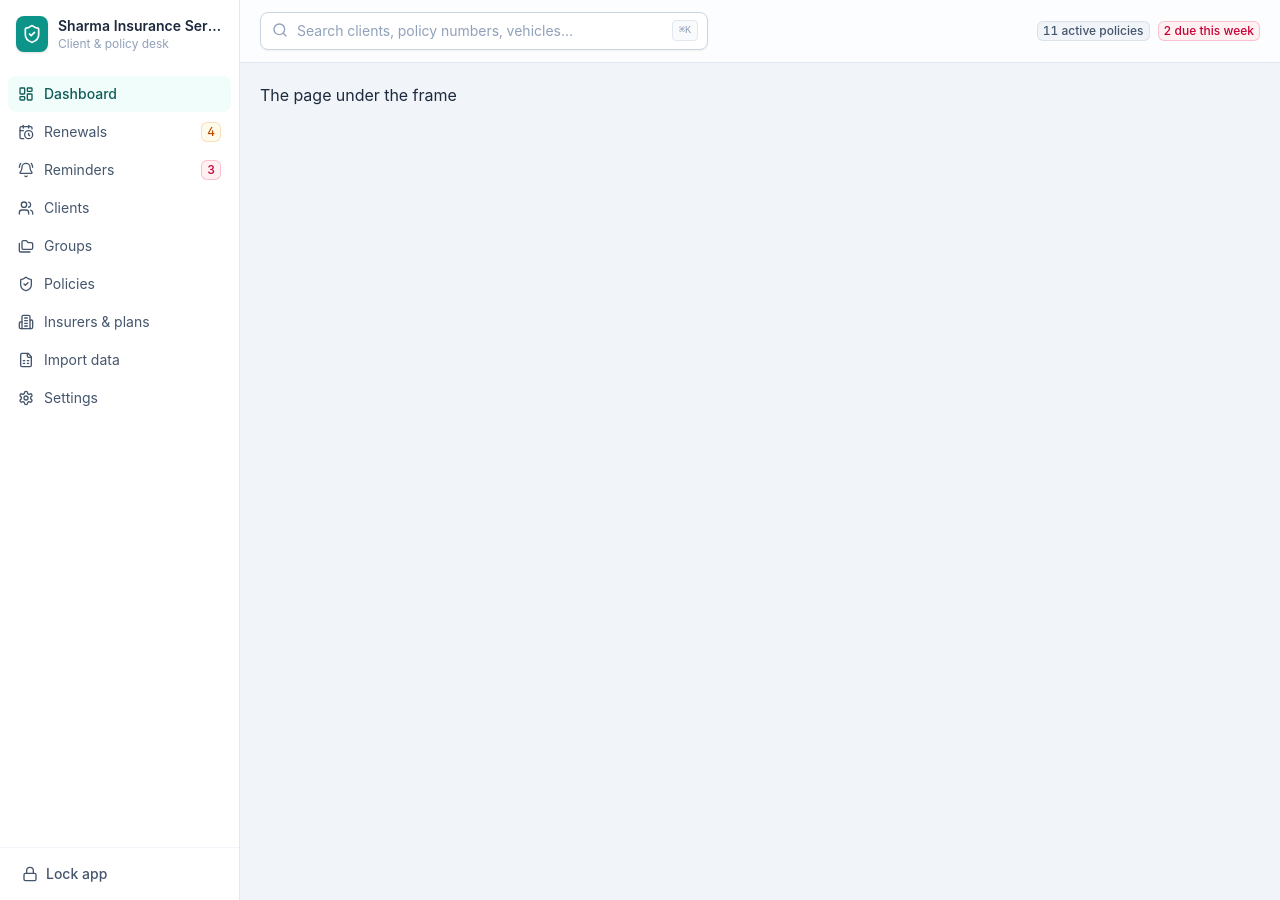
Scenario: locking the app › says so when the book will not close
Click the button "Lock app": (120, 874) [8,856,231,892]
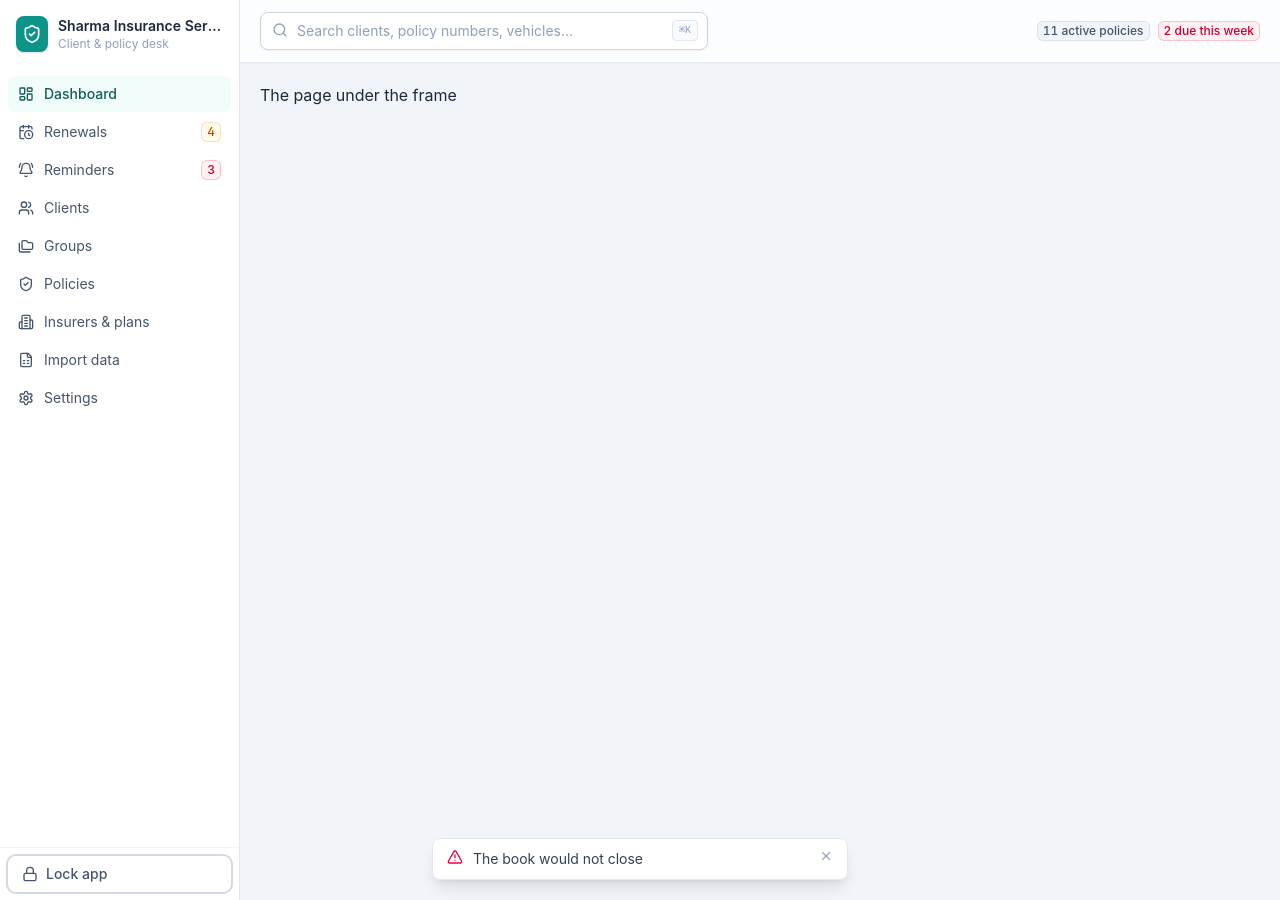
Check: the text "The book would not close" is shown, box [473,850,643,867]
